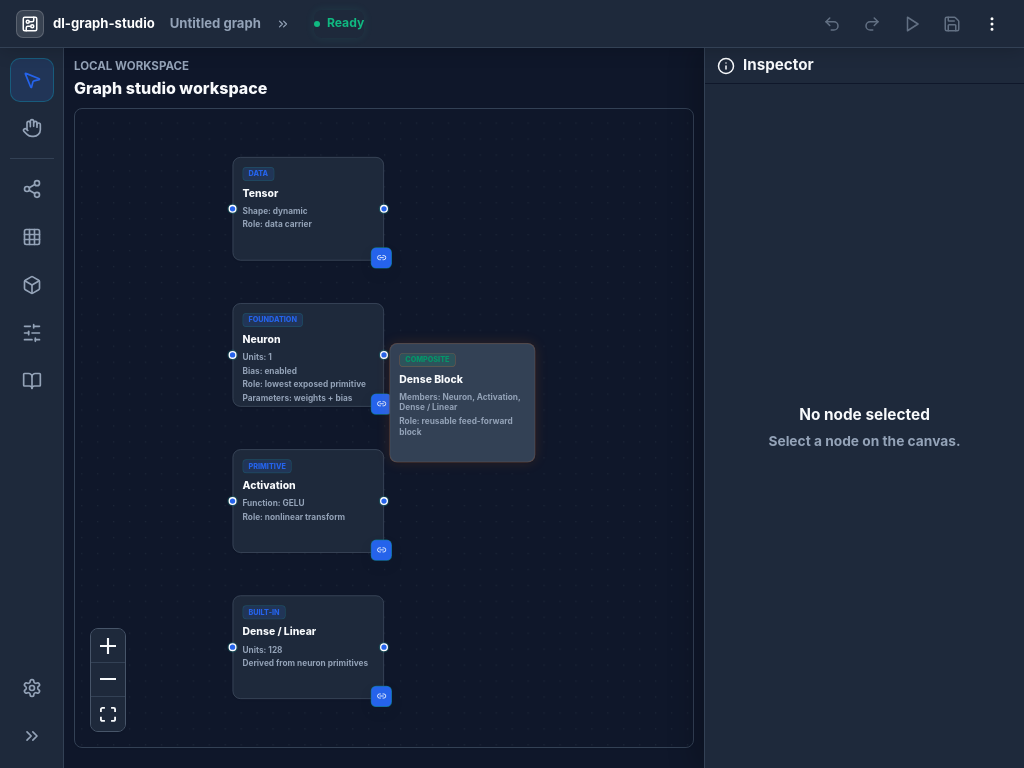
App shell › shows future topbar actions as disabled and exposes real project actions from the menu
Expected: the button named "undo coming soon" is disabled, x1=816 y1=8 x2=848 y2=40
Expected: the button named "redo coming soon" is disabled, x1=856 y1=8 x2=888 y2=40
Click the button named "project actions".
click(992, 24)  # box x1=976 y1=8 x2=1008 y2=40
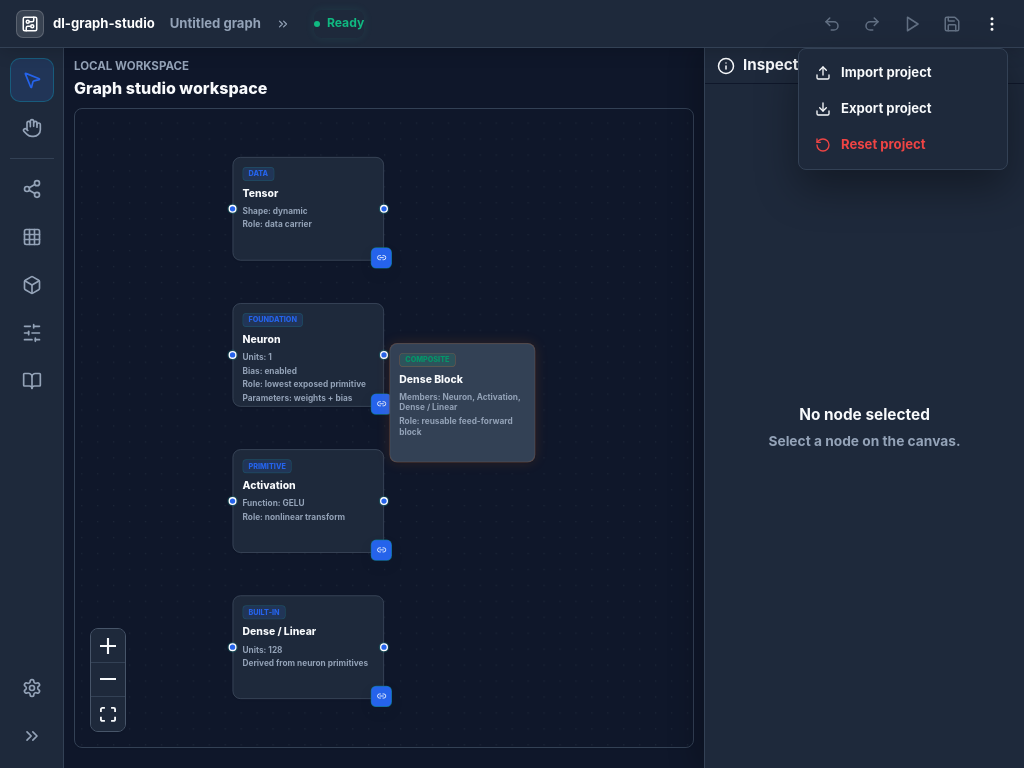
Result: the menu item "Import project" is shown at x1=815 y1=64 x2=932 y2=81
Result: the menu item "Export project" is shown at x1=815 y1=100 x2=932 y2=117
Result: the menu item "Reset project" is shown at x1=815 y1=136 x2=926 y2=153
